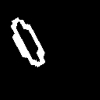chain: (11, 18, 44, 66)
